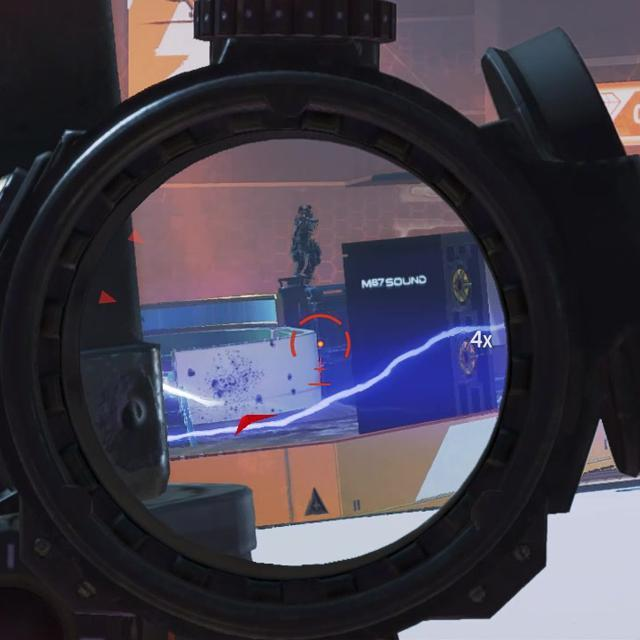avatar: (289, 202, 323, 283)
